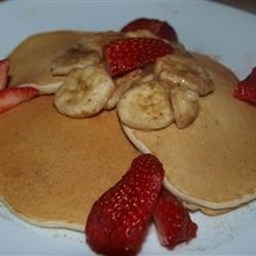background: (0, 7, 102, 102)
